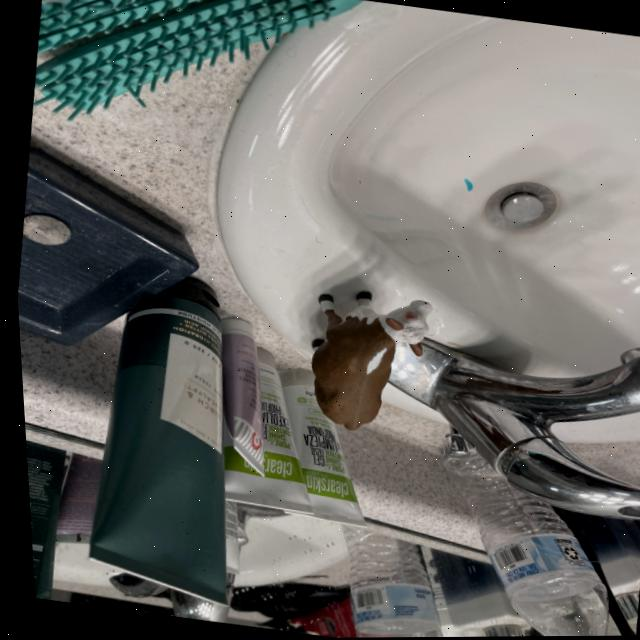cow: (297, 287, 430, 440)
